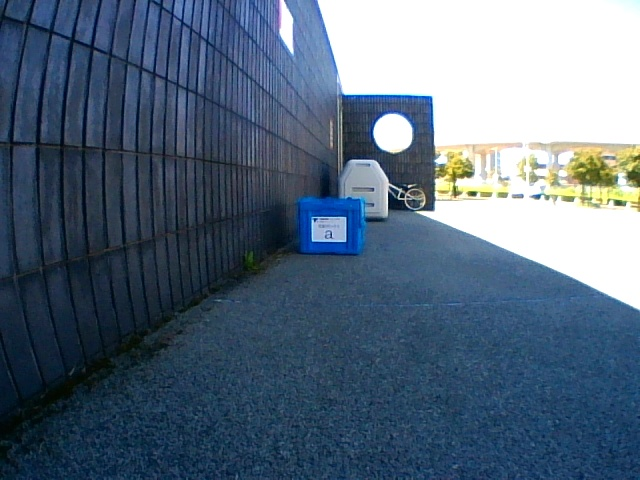blue_box: (297, 197, 365, 254)
tag_a: (313, 218, 345, 241)
